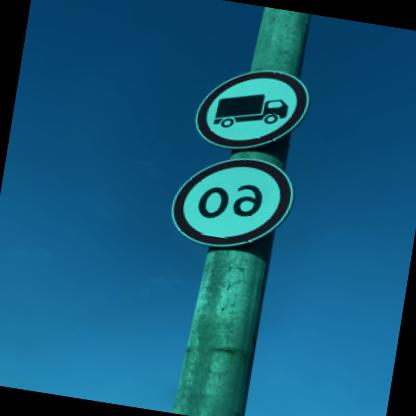speedlimit: (168, 147, 298, 256)
